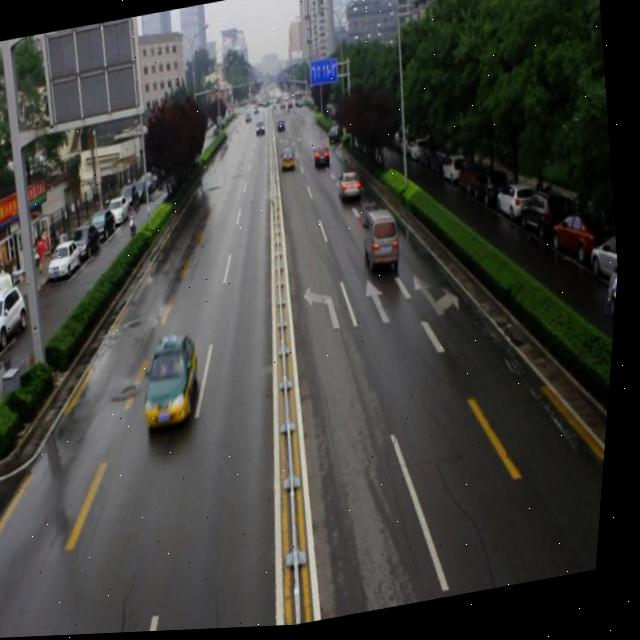car: (142, 333, 212, 431), (339, 170, 366, 204), (314, 145, 335, 173), (280, 148, 299, 175), (328, 124, 347, 147)
truck: (359, 208, 408, 280)
